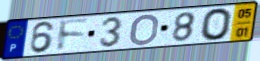3: (98, 16, 125, 50)
6: (29, 20, 56, 55)
8: (171, 11, 198, 43)
F: (57, 18, 91, 53)
O: (200, 7, 234, 42), (127, 13, 160, 47)
